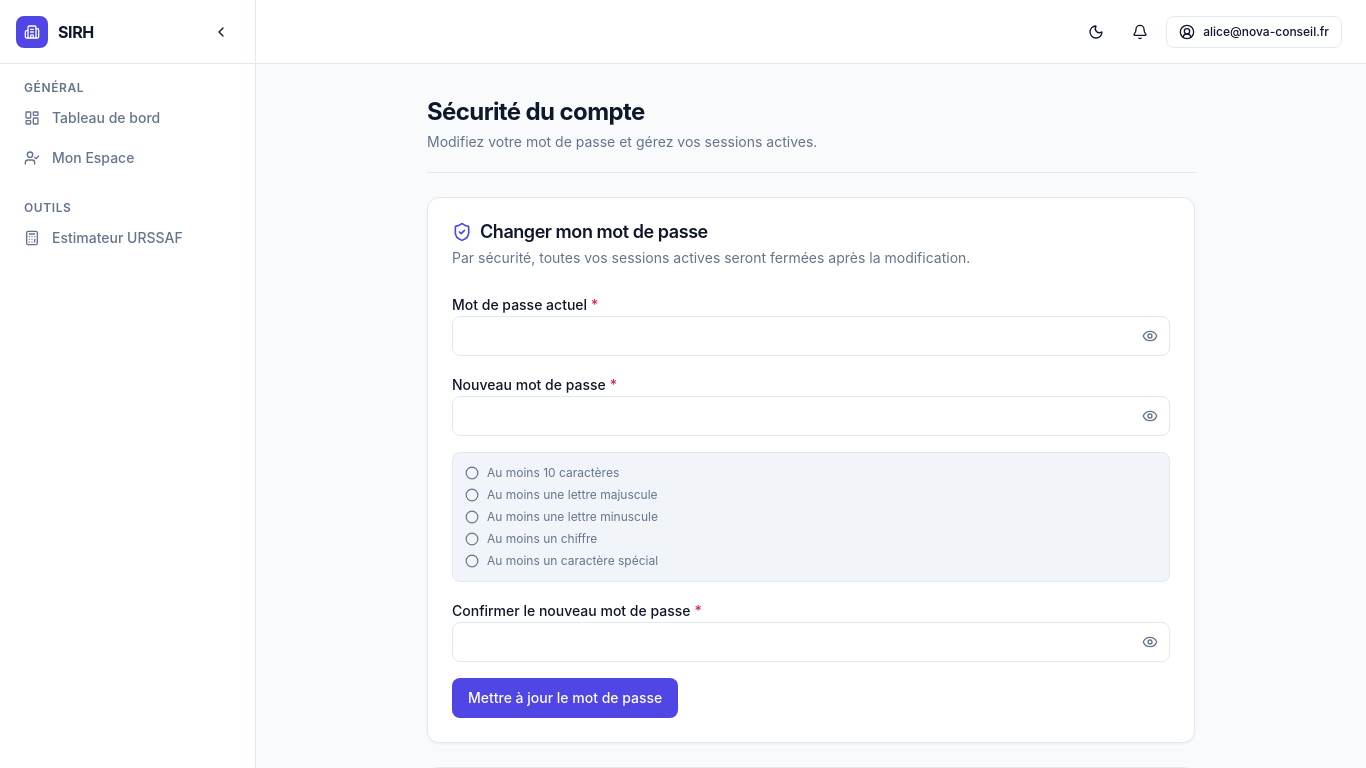
Test: Password & Session Security Flows › changes password on /account/security, clears session, and redirects to /login
Type "OldStrongPass123!" into the password field labelled "Mot de passe actuel*". click: (811, 336)
box: [452,316,1170,356]
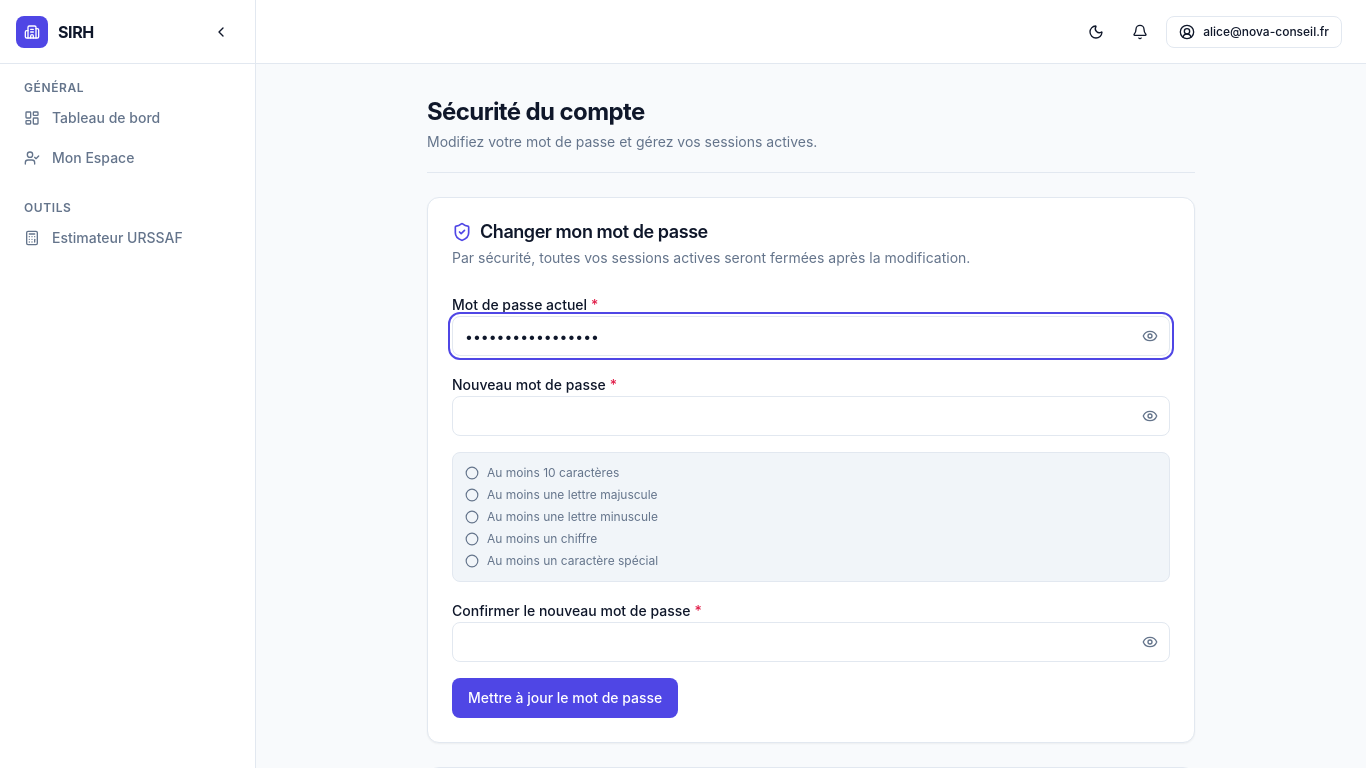
Type "NewStrongPass123!" into the password field labelled "Nouveau mot de passe*". click: (811, 416)
box: [452,396,1170,436]
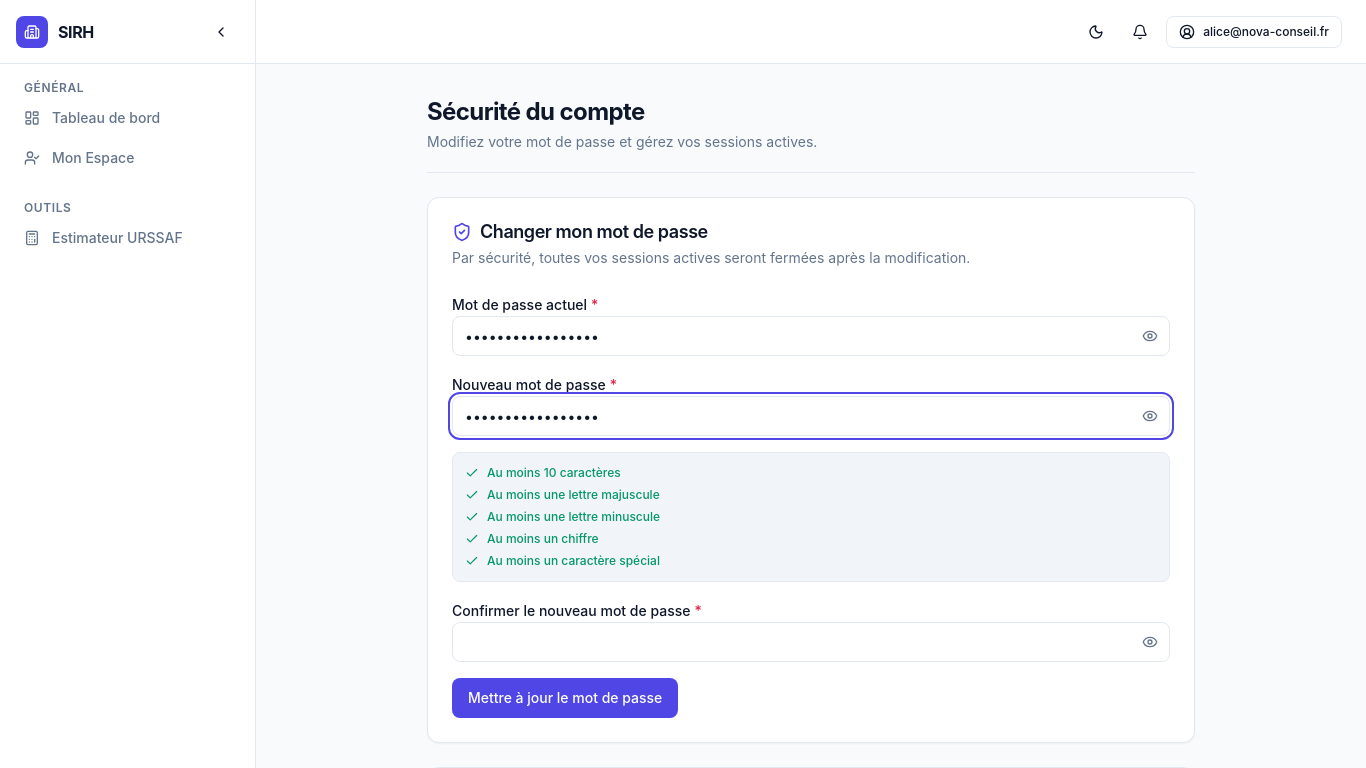
Type "NewStrongPass123!" into the password field labelled "Confirmer le nouveau mot de passe*". click: (811, 642)
box: [452,622,1170,662]
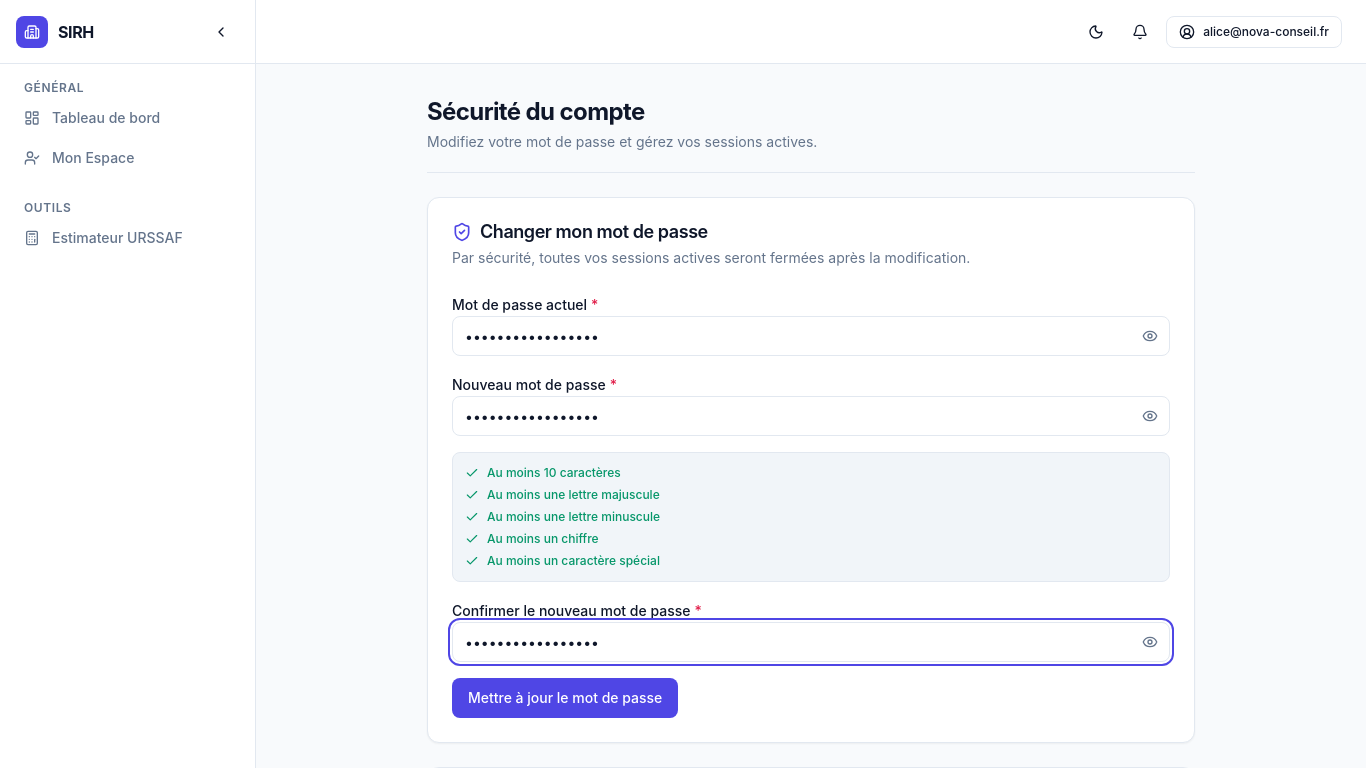
Click the button "Mettre à jour le mot de passe". click: (565, 698)
box: [452,678,678,718]
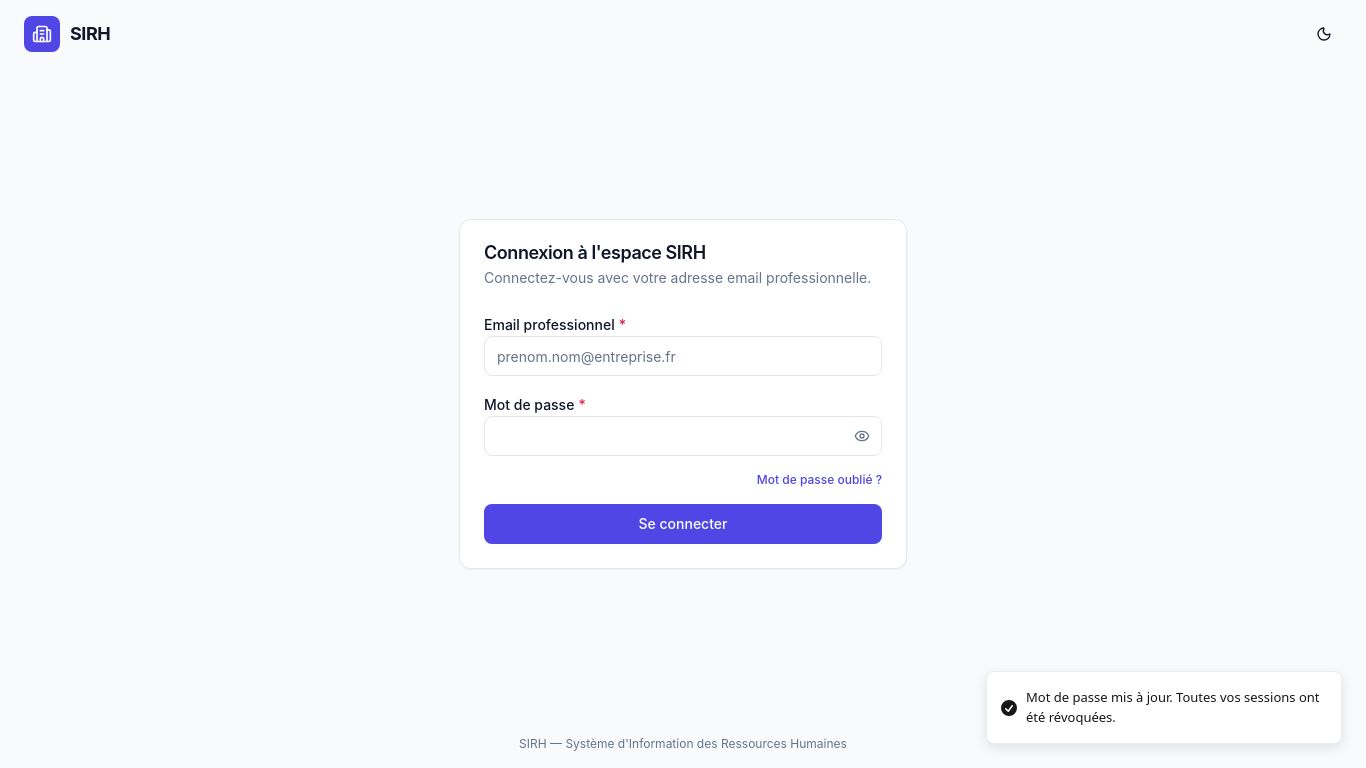
Expected: the heading "Connexion à l'espace SIRH" is shown, [484,242,706,263]
